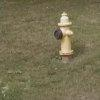a fire hydrant: (55, 12, 74, 56)
